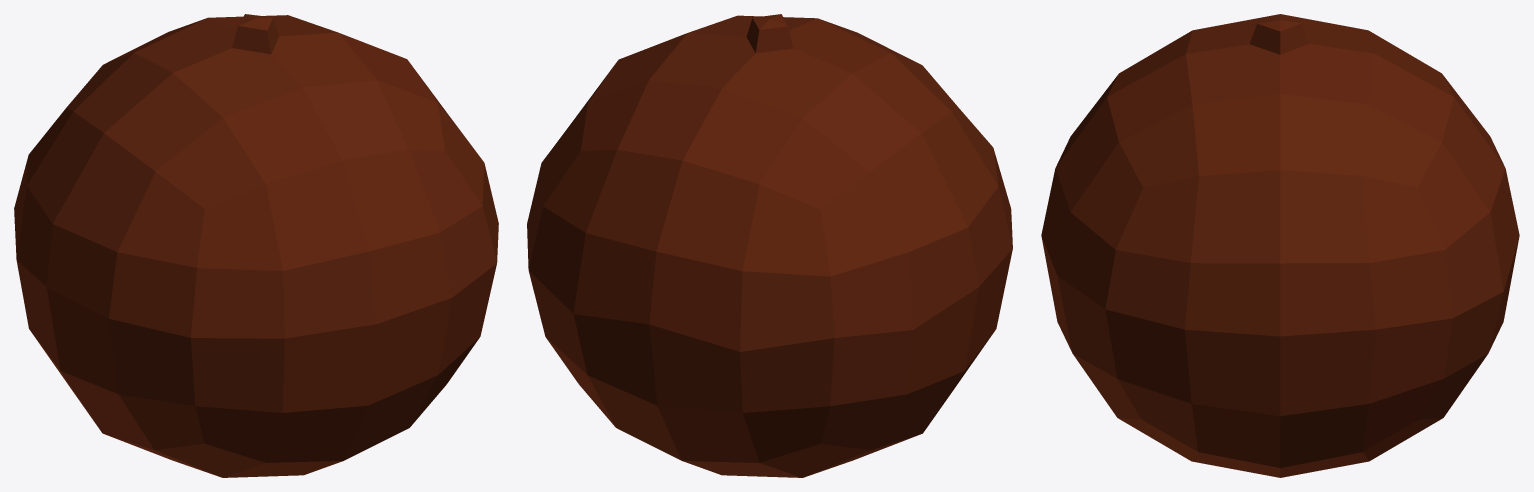
Rendered from Orange.obj.
The picture shows the model from 3 angles, left to right: view 1: azimuth 30°, elevation 25°; view 2: azimuth 150°, elevation 25°; view 3: azimuth 270°, elevation 25°; orthographic projection.
Visible parts, largest first — view 1: Orange_Cube.021; view 2: Orange_Cube.021; view 3: Orange_Cube.021.
Boxes of the visible parts, <box> form: Orange_Cube.021: <box>14,14,498,477</box>; Orange_Cube.021: <box>527,14,1012,477</box>; Orange_Cube.021: <box>1041,14,1519,477</box>.
Size of the model in its own units: 0.7449 by 0.7424 by 0.7449.
